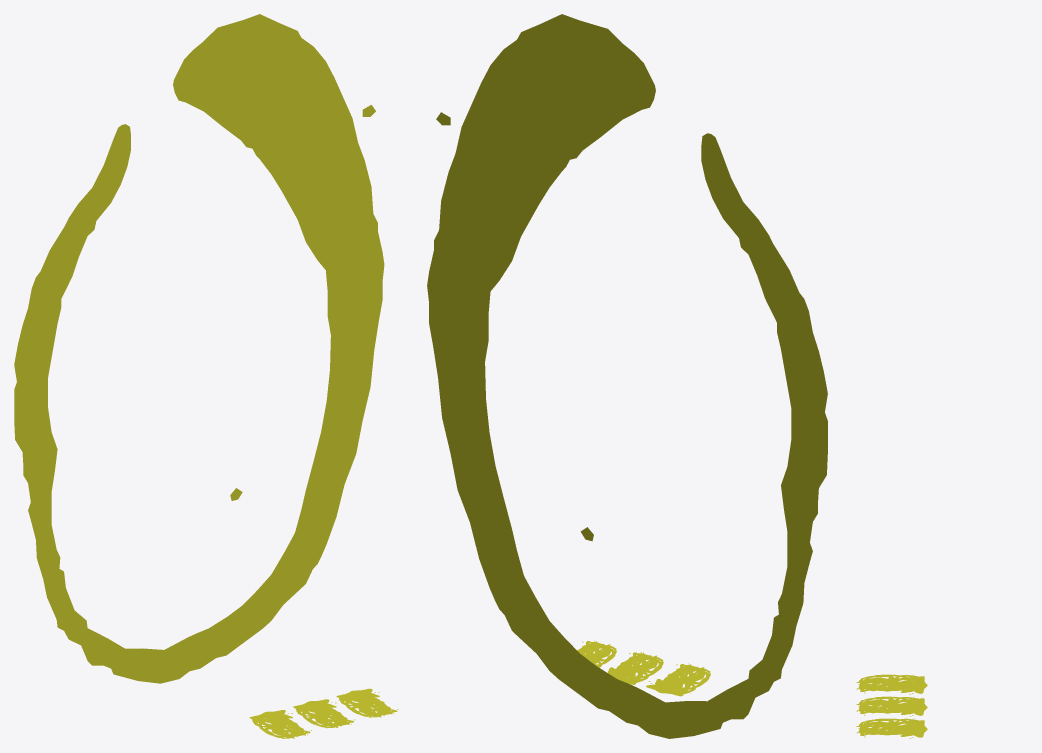
Rendered from zero.obj.
The picture shows the model from 3 angles, left to right: view 1: azimuth 30°, elevation 25°; view 2: azimuth 150°, elevation 25°; view 3: azimuth 270°, elevation 25°; orthographic projection. The views are drawn at different scales.
Parts seen in each view (by area): view 1: zero.001; view 2: zero.001; view 3: eight.002.
Part boxes in pixels (box(x1,y1,x2,y2)): zero.001: box(14, 14, 384, 683); zero.001: box(427, 14, 827, 738); eight.002: box(863, 718, 924, 737).
Bounding box in the file's own units: 0.3394 × 0.5713 × 0.1315.
